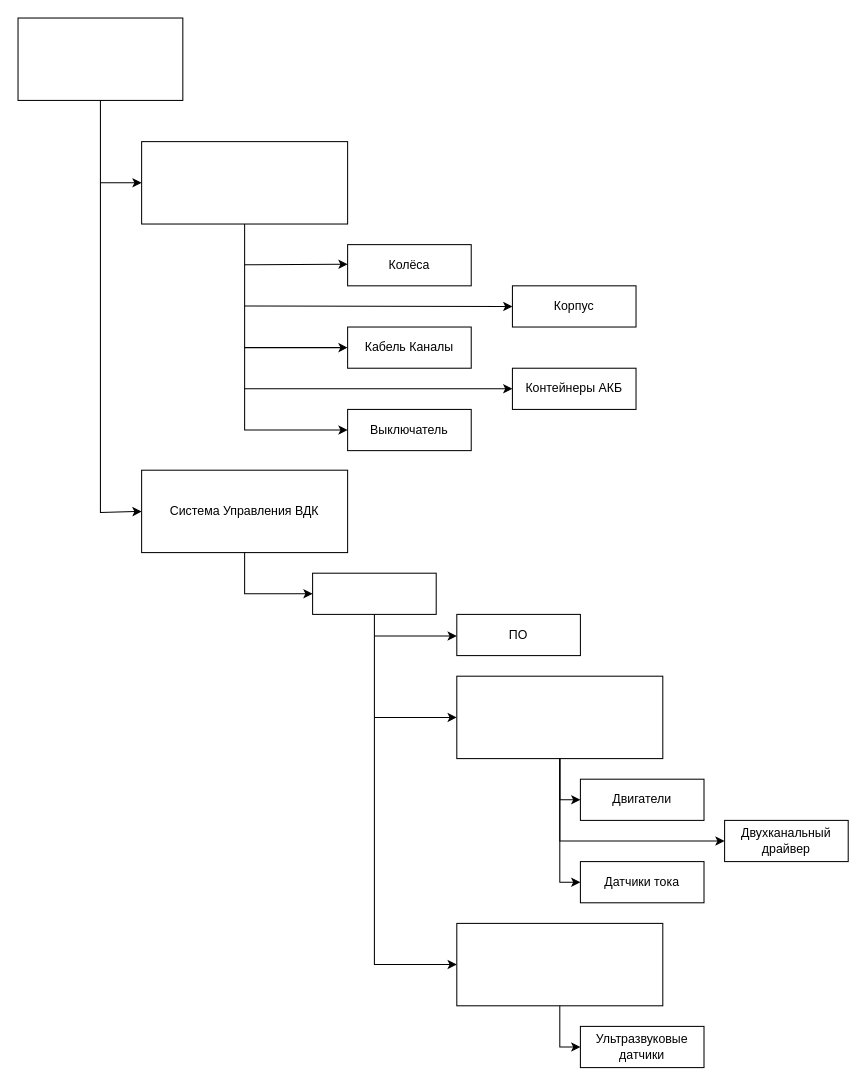
The diagram is 866 pixels wide and 1086 high, and some of its shapes have lost their labels. Here are the shapes that lost their labels. From the top down, the centre of each, then its label:
At [100,58]: "Внутритрубный Диагностический Комплекса".
At [244,182]: "Шасси".
At [374,593]: "Микроконтроллер".
At [559,717]: "Подсистема управления двигателями ВДК".
At [559,964]: "Подсистема навигации ВДК".
